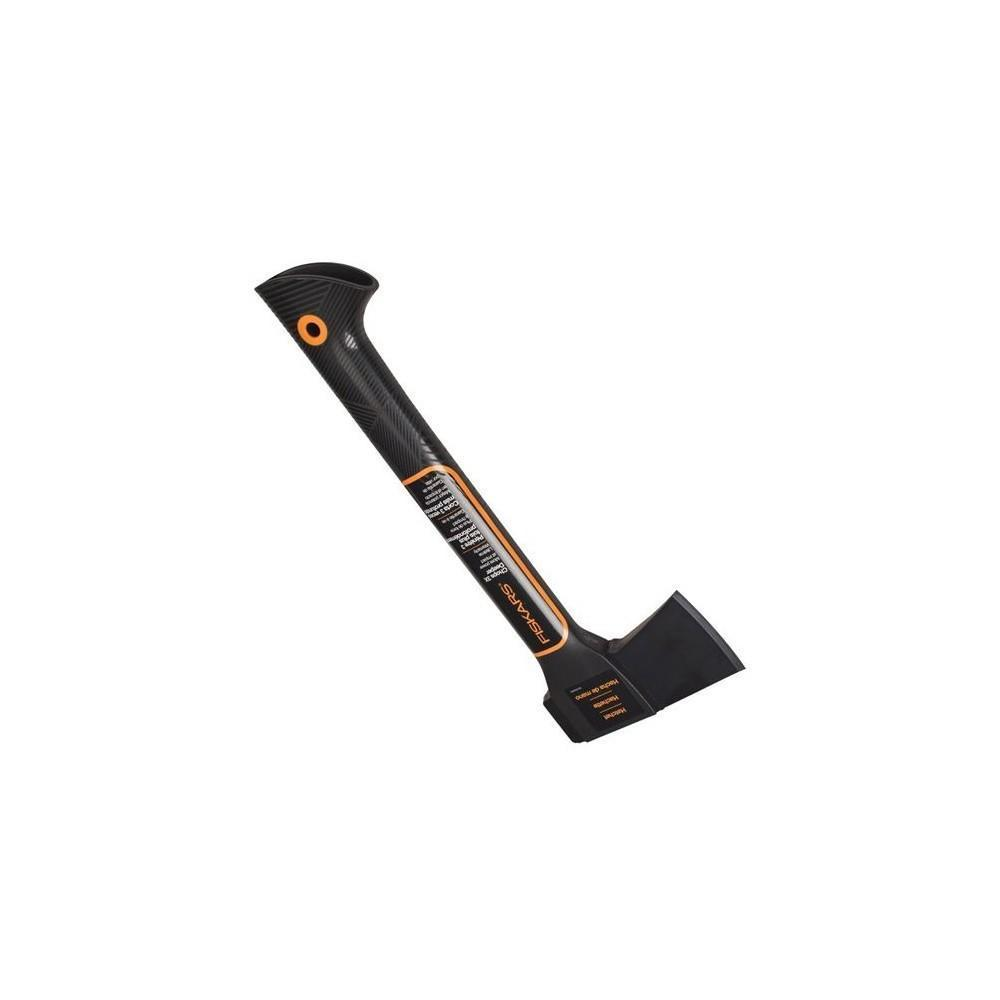machado: (257, 263, 742, 741)
